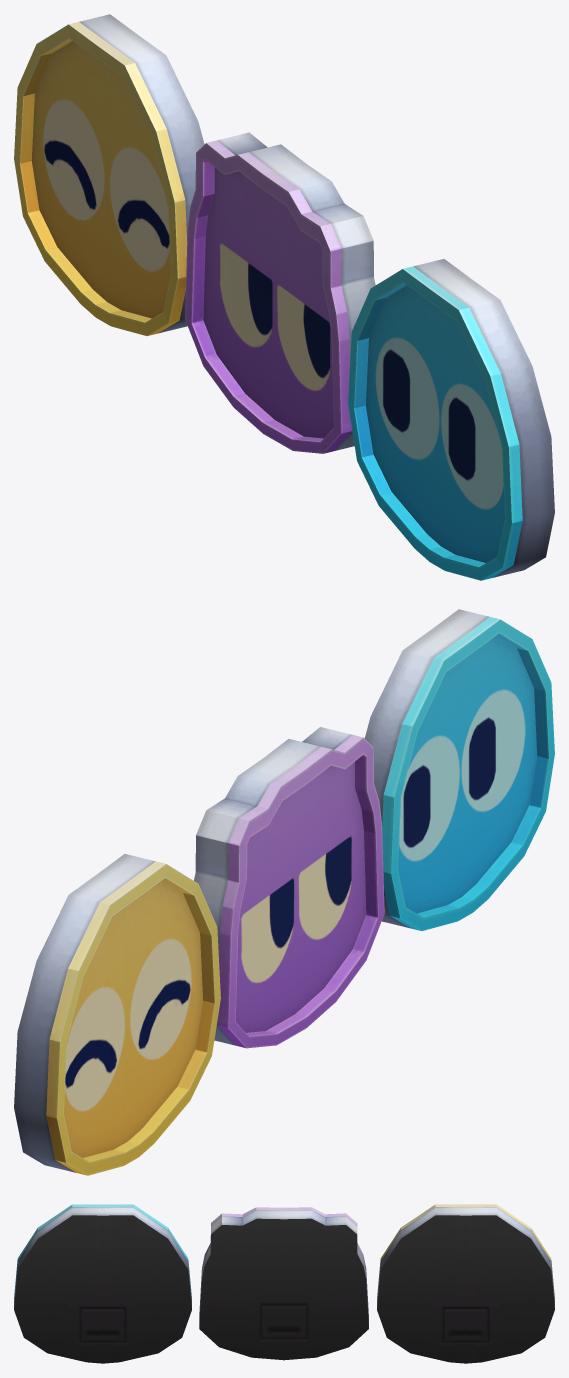
The model's file is my_gamecenter_01_p_wall_acc_02.glb.
3 views of the same model, one above another, from view 1: azimuth 30°, elevation 25°; view 2: azimuth 150°, elevation 25°; view 3: azimuth 270°, elevation 25° (orthographic). The views are drawn at different scales.
Visible parts, largest first — view 1: my_gamecenter_01_p_wall_acc_02; view 2: my_gamecenter_01_p_wall_acc_02; view 3: my_gamecenter_01_p_wall_acc_02.
Boxes of the visible parts, box(x1,y1,x2,y2) form: my_gamecenter_01_p_wall_acc_02: box(14, 14, 554, 580); my_gamecenter_01_p_wall_acc_02: box(14, 609, 554, 1175); my_gamecenter_01_p_wall_acc_02: box(14, 1204, 554, 1363).
Size of the model in its own units: 0.00147 by 0.00873 by 0.0289.
Materials: 2 (2 with a texture image).
